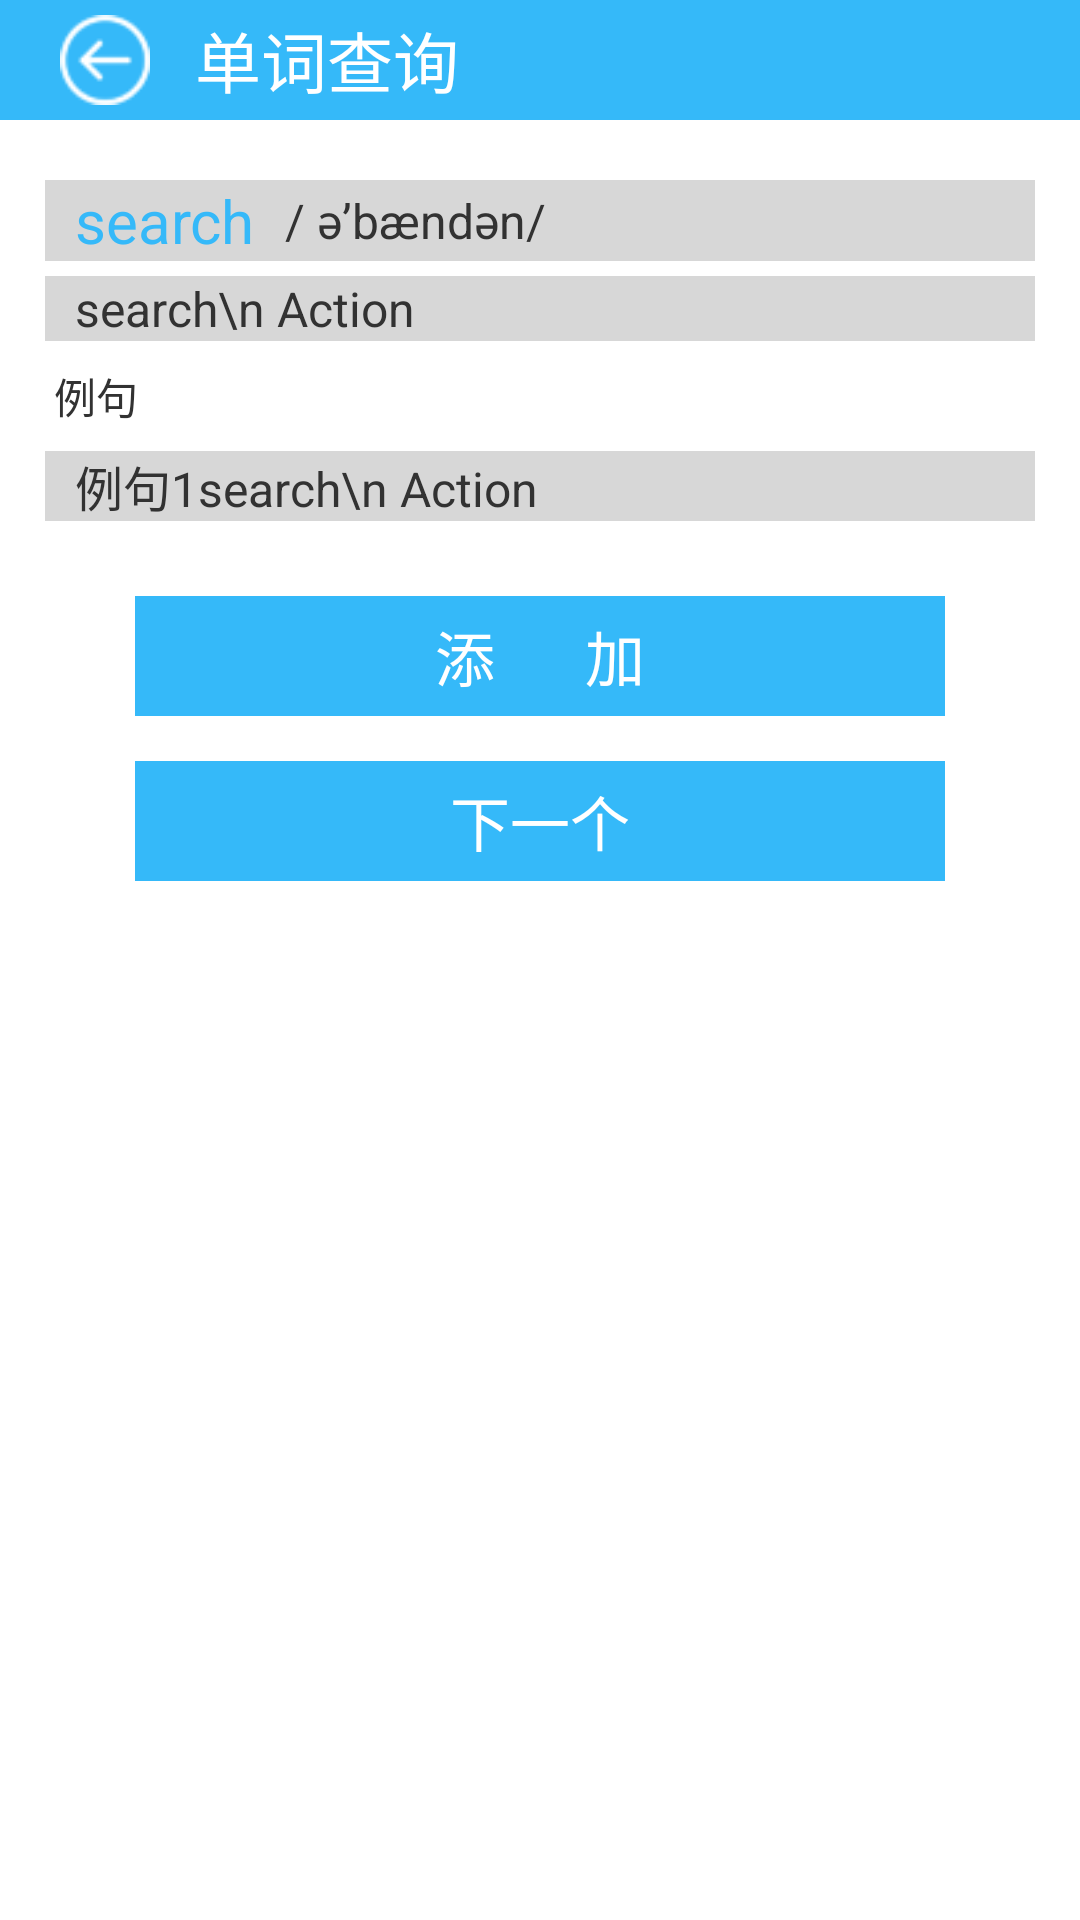

Icon click points for this 1080 x 1920 phone screenshot, format (x=x, y=y):
login back: (x=105, y=60)
